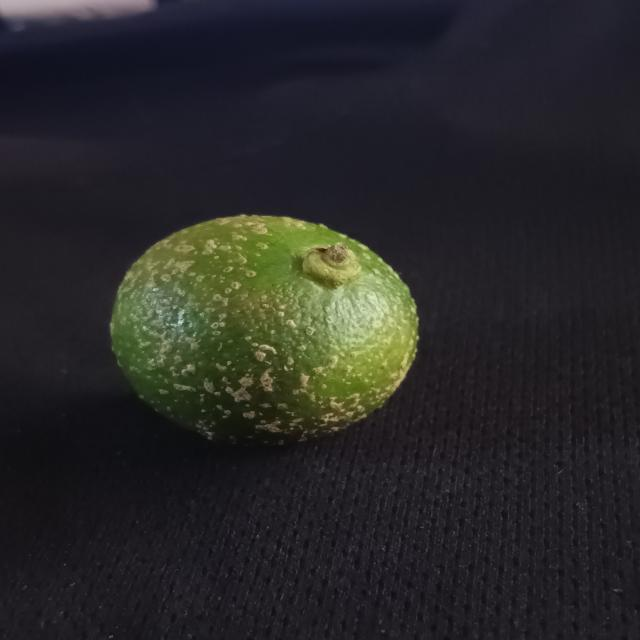scab: (104, 215, 430, 458)
